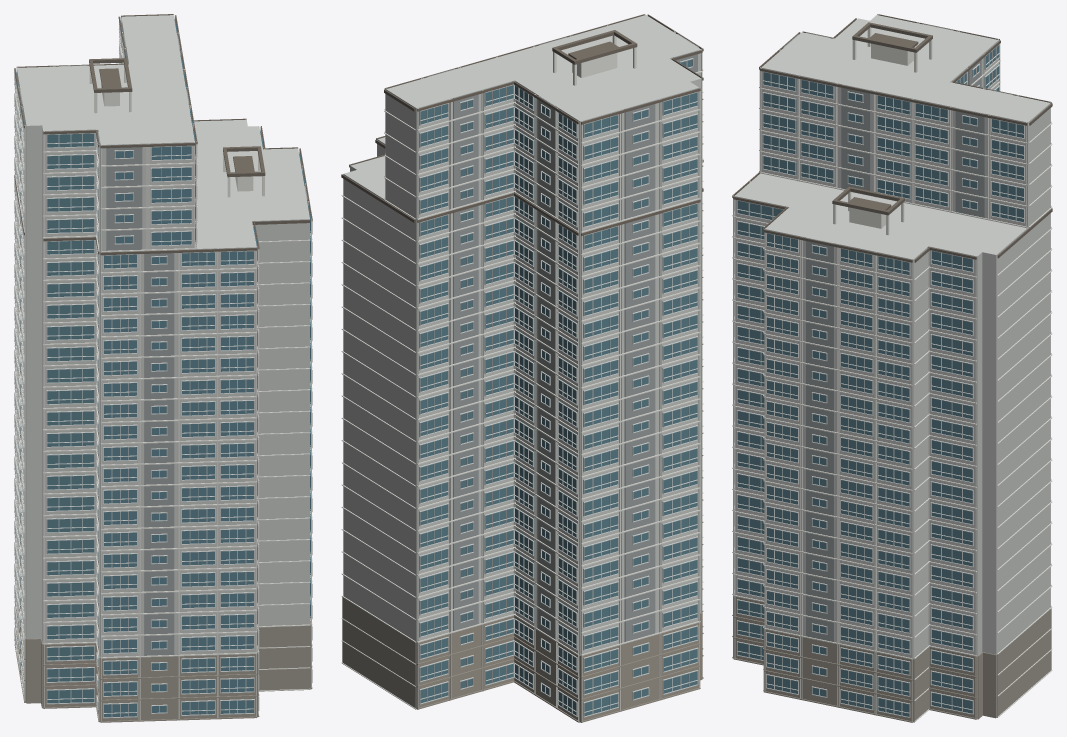
File: bespoke-banpo-xi-127.glb
The picture shows the model from 3 angles, left to right: view 1: azimuth 30°, elevation 25°; view 2: azimuth 150°, elevation 25°; view 3: azimuth 270°, elevation 25°; orthographic projection. The views are drawn at different scales.
Visible parts, largest first — view 1: editable_BX127_pale_silver_limestone, editable_BX127_blue_grey_broad_glazing, editable_BX127_white_window_frames, editable_BX127_ivory_course_bands, editable_BX127_grey_service_core, editable_BX127_warm_ground_stone, editable_BX127_dark_coping; view 2: editable_BX127_pale_silver_limestone, editable_BX127_blue_grey_broad_glazing, editable_BX127_white_window_frames, editable_BX127_ivory_course_bands, editable_BX127_grey_service_core, editable_BX127_warm_ground_stone, editable_BX127_dark_coping; view 3: editable_BX127_pale_silver_limestone, editable_BX127_blue_grey_broad_glazing, editable_BX127_white_window_frames, editable_BX127_ivory_course_bands, editable_BX127_grey_service_core, editable_BX127_warm_ground_stone, editable_BX127_dark_coping.
Boxes of the visible parts, left/top/right/bottom form: editable_BX127_pale_silver_limestone: left=16, top=15, right=309, bottom=657; editable_BX127_blue_grey_broad_glazing: left=16, top=19, right=310, bottom=717; editable_BX127_white_window_frames: left=14, top=21, right=312, bottom=718; editable_BX127_ivory_course_bands: left=14, top=15, right=312, bottom=722; editable_BX127_grey_service_core: left=19, top=34, right=307, bottom=655; editable_BX127_warm_ground_stone: left=14, top=601, right=312, bottom=722; editable_BX127_dark_coping: left=14, top=14, right=312, bottom=255; editable_BX127_pale_silver_limestone: left=343, top=15, right=701, bottom=721; editable_BX127_blue_grey_broad_glazing: left=419, top=59, right=697, bottom=716; editable_BX127_white_window_frames: left=419, top=58, right=698, bottom=717; editable_BX127_ivory_course_bands: left=341, top=14, right=703, bottom=721; editable_BX127_grey_service_core: left=427, top=34, right=698, bottom=641; editable_BX127_warm_ground_stone: left=342, top=597, right=703, bottom=722; editable_BX127_dark_coping: left=341, top=14, right=703, bottom=235; editable_BX127_pale_silver_limestone: left=734, top=15, right=1050, bottom=718; editable_BX127_blue_grey_broad_glazing: left=737, top=45, right=1023, bottom=716; editable_BX127_white_window_frames: left=734, top=44, right=1024, bottom=717; editable_BX127_ivory_course_bands: left=732, top=14, right=1052, bottom=721; editable_BX127_grey_service_core: left=783, top=24, right=1013, bottom=642; editable_BX127_warm_ground_stone: left=732, top=596, right=1051, bottom=722; editable_BX127_dark_coping: left=732, top=14, right=1052, bottom=262.
Size of the model in its own units: 39.22 by 76.5 by 37.6.
